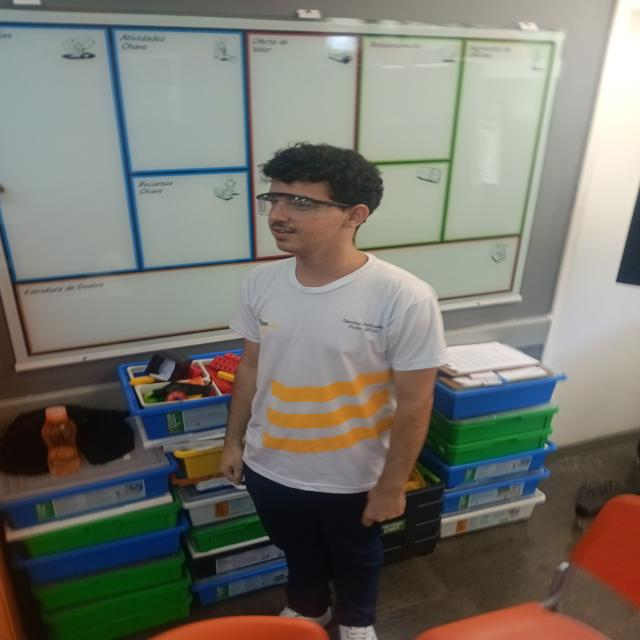oculos-epi: (255, 192, 350, 220)
